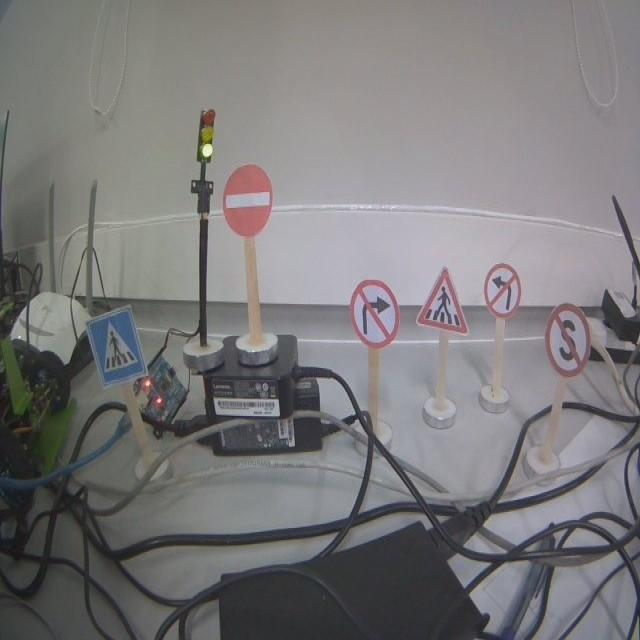Dilarang Belok Kanan: (349, 279, 400, 348)
Dilarang Belok Kiri: (484, 263, 522, 316)
Dilarang Masuk: (222, 164, 273, 239)
Lampu Hijau: (196, 108, 215, 163)
Rambu Berhenti: (545, 303, 591, 377)
Rambu Penyebrangan: (84, 304, 148, 391), (416, 268, 469, 336)
